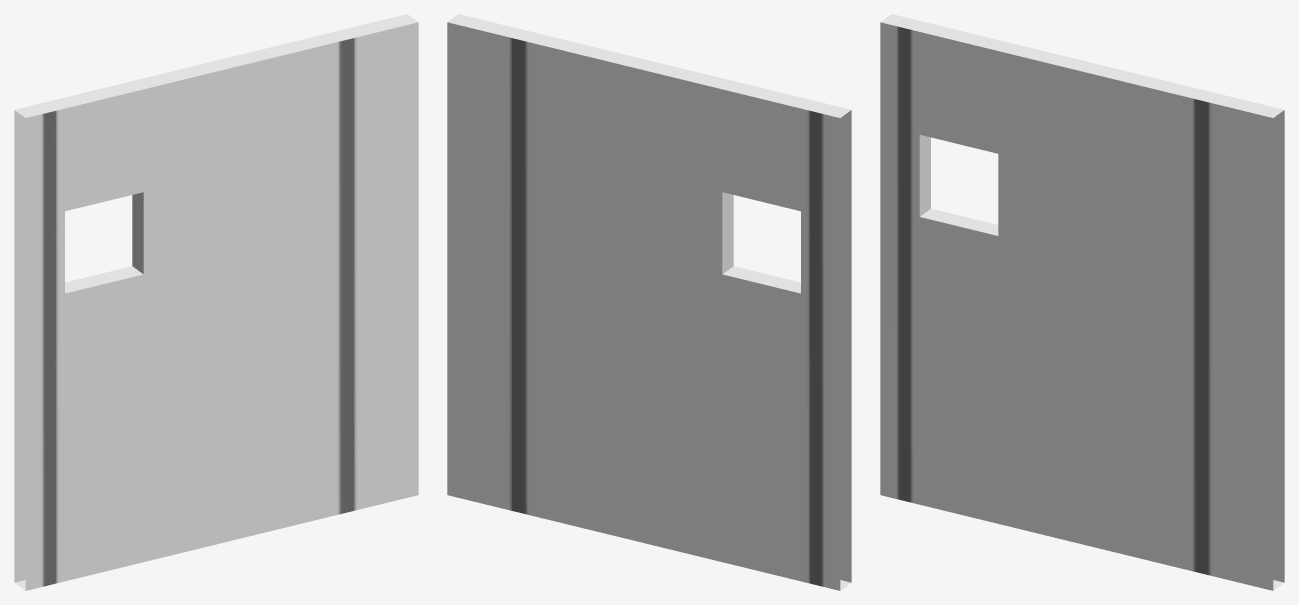
Rendered from SM_WallWithHole_Var1_200x230.fbx.
3 renders of one model, left to right at view 1: azimuth 30°, elevation 25°; view 2: azimuth 150°, elevation 25°; view 3: azimuth 330°, elevation 25°, orthographic.
Parts seen in each view (by area): view 1: WallWithHole_Var1_200x230; view 2: WallWithHole_Var1_200x230; view 3: WallWithHole_Var1_200x230.
Part boxes in pixels (bbox=[...]): WallWithHole_Var1_200x230: bbox=[14, 14, 418, 590]; WallWithHole_Var1_200x230: bbox=[447, 14, 851, 590]; WallWithHole_Var1_200x230: bbox=[880, 14, 1284, 590].
Bounding box in the file's own units: 200 × 230 × 10.
